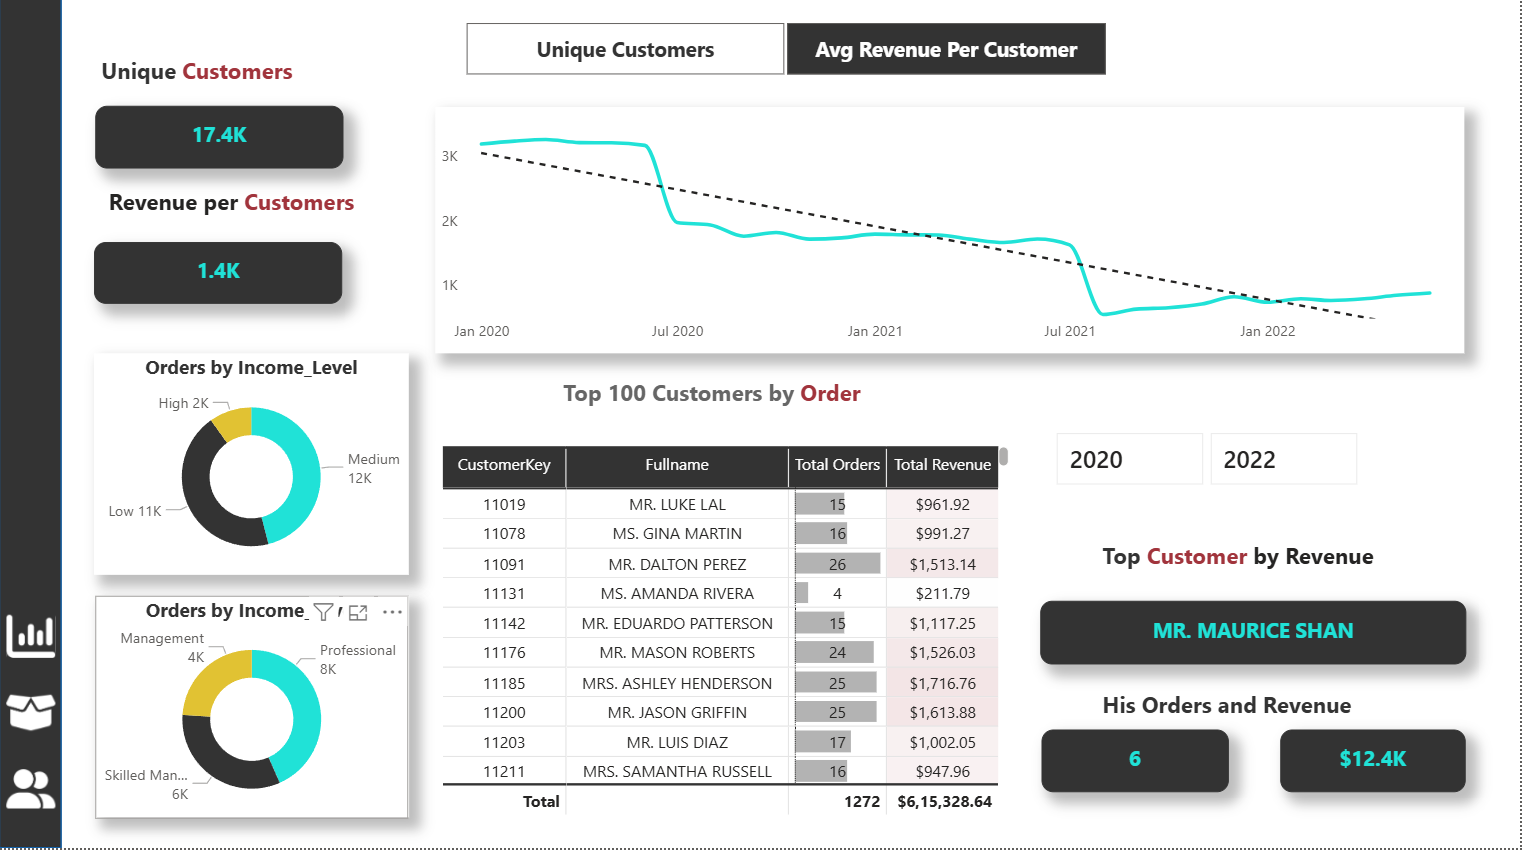

What the dashboard file says about the page in this screenshot:
{"tool":"powerbi","page":{"name":"Customers","canvas":[1280,720],"ordinal":2},"visuals":[{"type":"group","id":"g1","title":"Main Nav","box":[0,0,52.7,720.3],"z":0},{"type":"shape","box":[0,0,52.7,720.3],"z":0,"group":"g1"},{"type":"card","fields":{"Values":["Measure_Table.Unique Customers"]},"box":[80.7,96,208.5,52.7],"z":1000},{"type":"textbox","box":[81.3,47.9,264.1,40.6],"z":2000},{"type":"card","fields":{"Values":["Measure_Table.Avg Revenue Per Customer"]},"box":[79.8,210.4,208.9,52.2],"z":3000},{"type":"actionButton","box":[2,517.8,50.6,49.4],"z":3000,"group":"g1"},{"type":"textbox","box":[87.2,158.3,439,40.5],"z":4000},{"type":"actionButton","box":[2,581.6,50.6,49.4],"z":4000,"group":"g1"},{"type":"lineChart","fields":{"Y":["Measure_Table.Avg Revenue Per Customer"],"Category":["Calendar Lookup.Start Of Month.Variation.Date Hierarchy.Year","Calendar Lookup.Start Of Month.Variation.Date Hierarchy.Quarter","Calendar Lookup.Start Of Month.Variation.Date Hierarchy.Month","Calendar Lookup.Start Of Month.Variation.Date Hierarchy.Day"]},"box":[367.3,96.3,865.8,207.1],"z":5000},{"type":"actionButton","box":[2,645.4,50.6,49.4],"z":5000,"group":"g1"},{"type":"slicer","fields":{"Values":["Parameter.Parameter"]},"box":[367.3,19.3,587.6,57.8],"z":6000},{"type":"donutChart","title":"Orders by Income_Level","fields":{"Category":["Customer Lookup.Income_Category"],"Y":["Measure_Table.Total Orders"]},"box":[79.5,303.4,264.9,186.6],"z":7000},{"type":"donutChart","title":"Orders by Income_Level","fields":{"Y":["Measure_Table.Total Orders"],"Category":["Customer Lookup.Occupation"]},"box":[80.7,508.1,263.7,186.6],"z":8000},{"type":"tableEx","fields":{"Values":["Sales_data.CustomerKey","Customer Lookup.Fullname","Measure_Table.Total Orders","Measure_Table.Total Revenue"]},"box":[367.1,377.2,487.5,319.2],"z":9000},{"type":"textbox","box":[413.5,319.2,372.9,40.6],"z":10000},{"type":"card","fields":{"Values":["Min(Customer Lookup.Fullname)"]},"box":[875.4,512.5,358.4,53.7],"z":11000},{"type":"textbox","box":[923.3,455.9,264.1,40.6],"z":12000},{"type":"card","fields":{"Values":["Measure_Table.Total Orders"]},"box":[877.2,620.1,157.3,52.9],"z":13000},{"type":"card","fields":{"Values":["Measure_Table.Total Revenue"]},"box":[1077.4,620.1,155.9,52.9],"z":14000},{"type":"textbox","box":[923.5,581.2,265.3,39.4],"z":15000},{"type":"slicer","fields":{"Values":["Calendar Lookup.Date.Variation.Date Hierarchy.Year"]},"box":[876.4,360.2,356.7,68.1],"z":16000}]}

Visuals, with their boxes on the page's 1280x720 design canvas (x1, y1, x2, y2). These are canvas units, not pixel positions in the 1522x851 screenshot, which may show the page scaled, cropped or inside an application window:
"Main Nav" group: crop(0, 0, 53, 720)
shape: crop(0, 0, 53, 720)
card - Measure_Table.Unique Customers: crop(81, 96, 289, 149)
textbox: crop(81, 48, 345, 88)
card - Measure_Table.Avg Revenue Per Customer: crop(80, 210, 289, 263)
actionButton: crop(2, 518, 53, 567)
textbox: crop(87, 158, 526, 199)
actionButton: crop(2, 582, 53, 631)
lineChart - Measure_Table.Avg Revenue Per Customer x Calendar Lookup.Start Of Month.Variation.Date Hierarchy.Year: crop(367, 96, 1233, 303)
actionButton: crop(2, 645, 53, 695)
slicer - Parameter.Parameter: crop(367, 19, 955, 77)
"Orders by Income_Level" donutChart: crop(80, 303, 344, 490)
"Orders by Income_Level" donutChart: crop(81, 508, 344, 695)
tableEx - Sales_data.CustomerKey x Customer Lookup.Fullname: crop(367, 377, 855, 696)
textbox: crop(414, 319, 786, 360)
card - Min(Customer Lookup.Fullname): crop(875, 512, 1234, 566)
textbox: crop(923, 456, 1187, 496)
card - Measure_Table.Total Orders: crop(877, 620, 1034, 673)
card - Measure_Table.Total Revenue: crop(1077, 620, 1233, 673)
textbox: crop(924, 581, 1189, 621)
slicer - Calendar Lookup.Date.Variation.Date Hierarchy.Year: crop(876, 360, 1233, 428)
